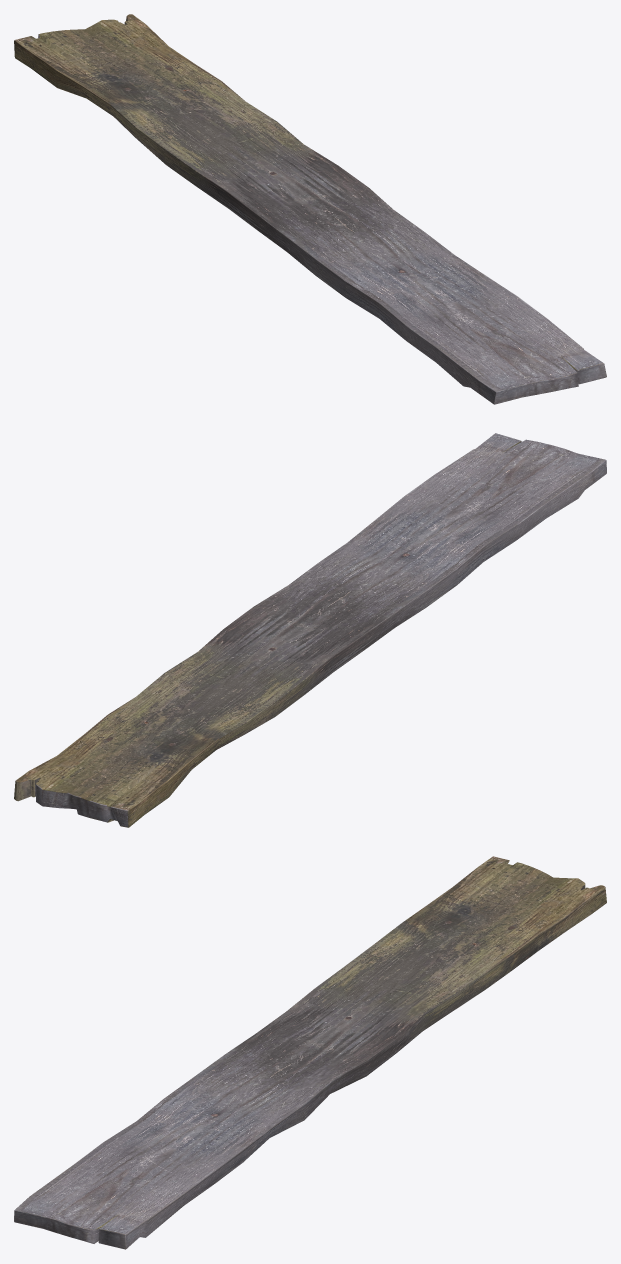
Rendered from sm_WoodPlank_01_07.fbx.
The picture shows the model from 3 angles, top to bottom: view 1: azimuth 30°, elevation 25°; view 2: azimuth 150°, elevation 25°; view 3: azimuth 330°, elevation 25°; orthographic projection.
Parts seen in each view (by area): view 1: sm_WoodPlank_01_07_LOD0; view 2: sm_WoodPlank_01_07_LOD0; view 3: sm_WoodPlank_01_07_LOD0.
Boxes of the visible parts, bbox=[...] form: sm_WoodPlank_01_07_LOD0: bbox=[14, 14, 606, 404]; sm_WoodPlank_01_07_LOD0: bbox=[14, 433, 606, 827]; sm_WoodPlank_01_07_LOD0: bbox=[14, 856, 606, 1249].
Bounding box in the file's own units: 20.92 × 151 × 3.67.
